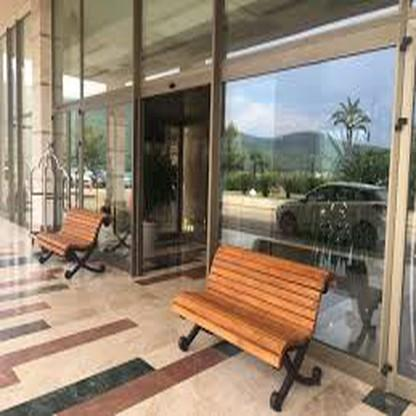obstacle: (171, 242, 334, 409), (34, 208, 112, 289)
